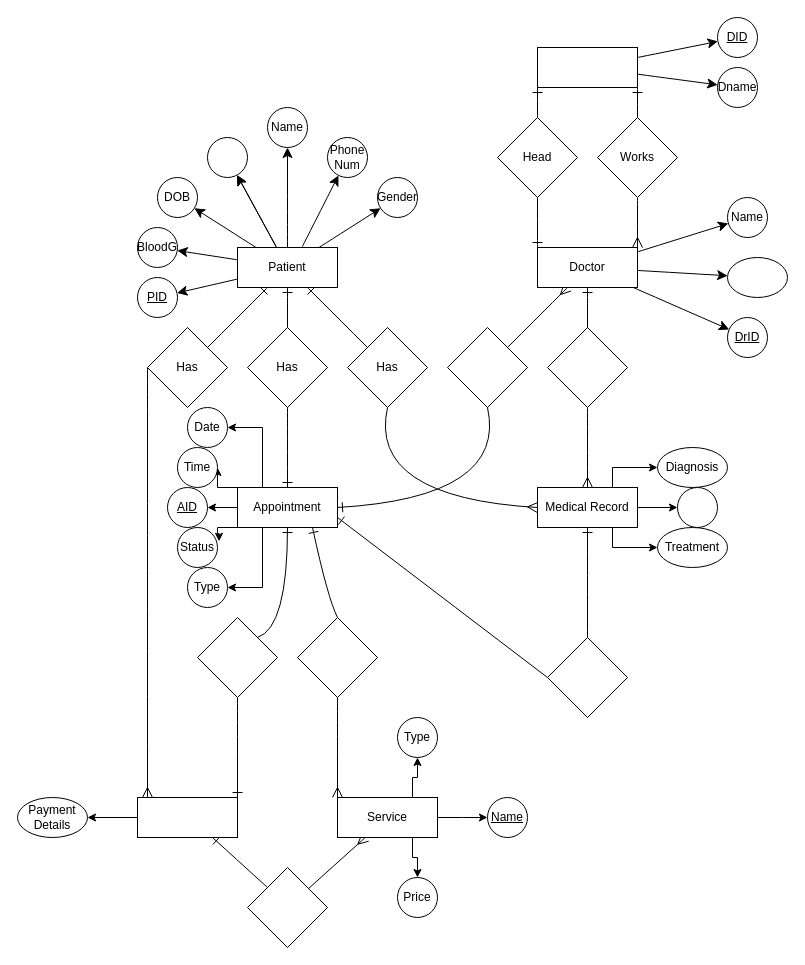
Image size: 805x965. Some labels were removed from this diagram. The shapes that lost their labels are listed below. From the top down, each one's centre as x and y in pixels, then its label:
At pixel 587 67: "Department".
At pixel 227 157: "Age".
At pixel 757 277: "Speciality".
At pixel 487 367: "Handel".
At pixel 587 367: "Create".
At pixel 697 507: "MID".
At pixel 237 657: "Link".
At pixel 337 657: "Include".
At pixel 587 677: "Result".
At pixel 187 817: "Billing".
At pixel 287 907: "Calculate".
